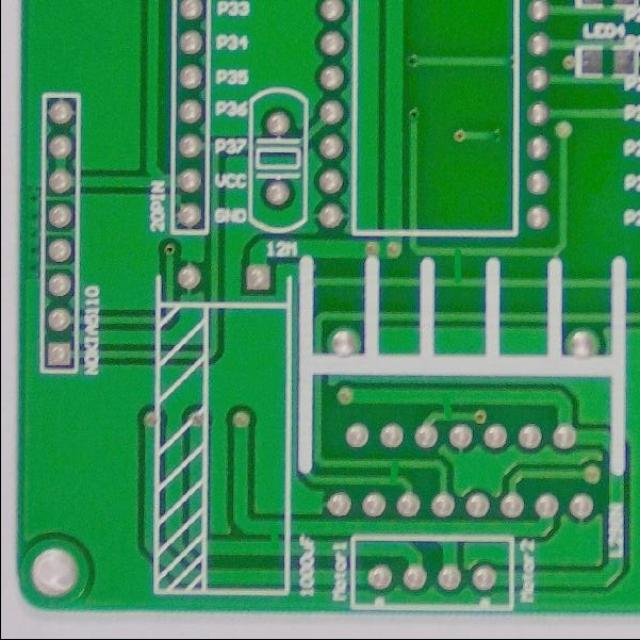Short_Circuit: (440, 238, 474, 292), (258, 517, 288, 559), (432, 385, 464, 424), (378, 453, 408, 488)
